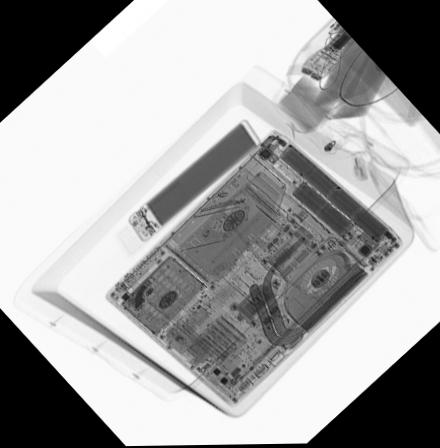Powerbank: (124, 117, 260, 247)
